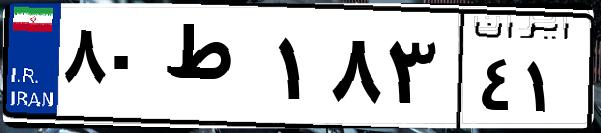0: (110, 28, 158, 98)
1: (270, 28, 330, 110), (525, 38, 570, 115)
3: (385, 28, 445, 110)
4: (475, 38, 525, 113)
8: (330, 28, 385, 110), (57, 26, 110, 100)
ط: (158, 20, 270, 120)
